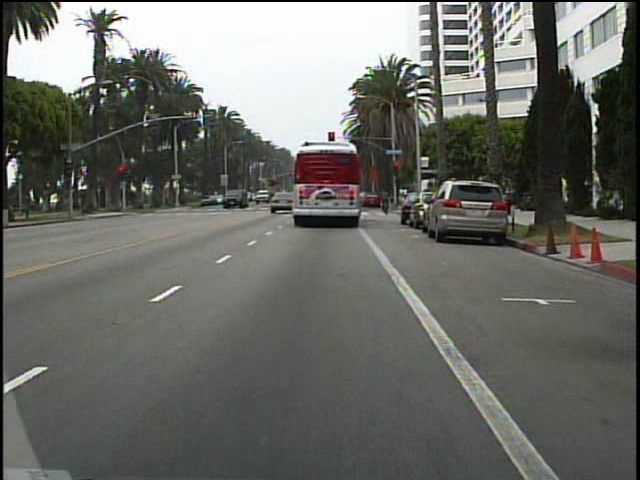person: (375, 186, 394, 215), (505, 181, 520, 216)
